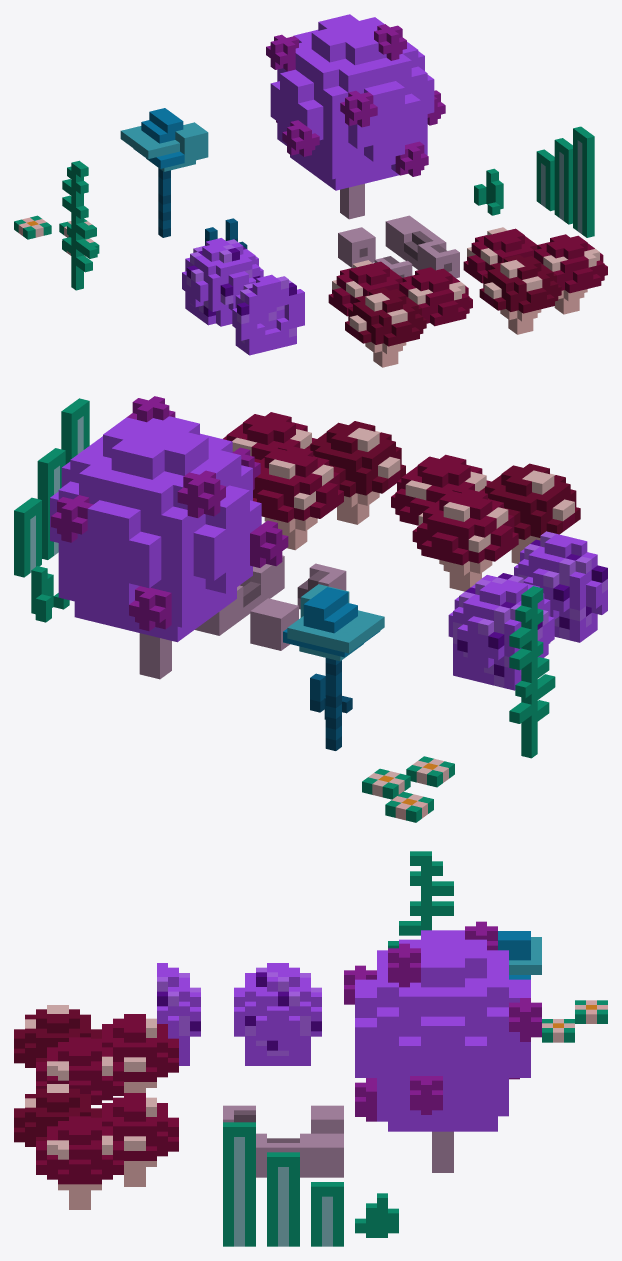
Rendered from bracken.obj.
3 views of the same model, one above another, from view 1: azimuth 30°, elevation 25°; view 2: azimuth 150°, elevation 25°; view 3: azimuth 270°, elevation 25° (orthographic). The views are drawn at different scales.
Bounding box in the file's own units: 5.5 × 2.3 × 5.4.
1 material, 1 textured.
